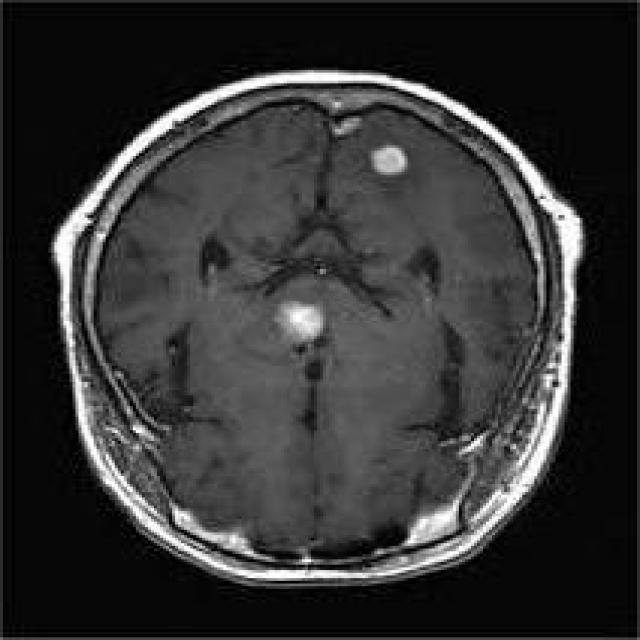notumor: (51, 70, 580, 584)
